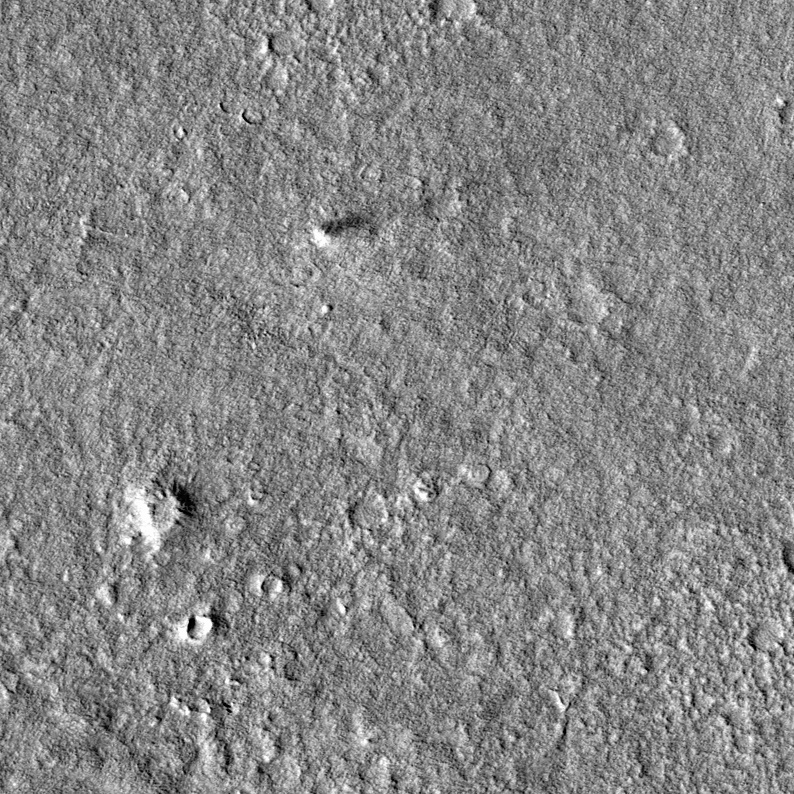dust_devil: (311, 210, 369, 252)
